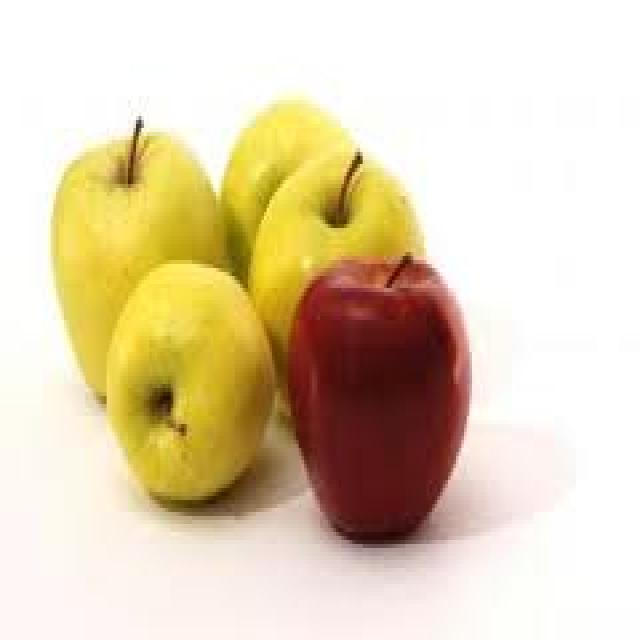apples: (27, 64, 512, 624)
